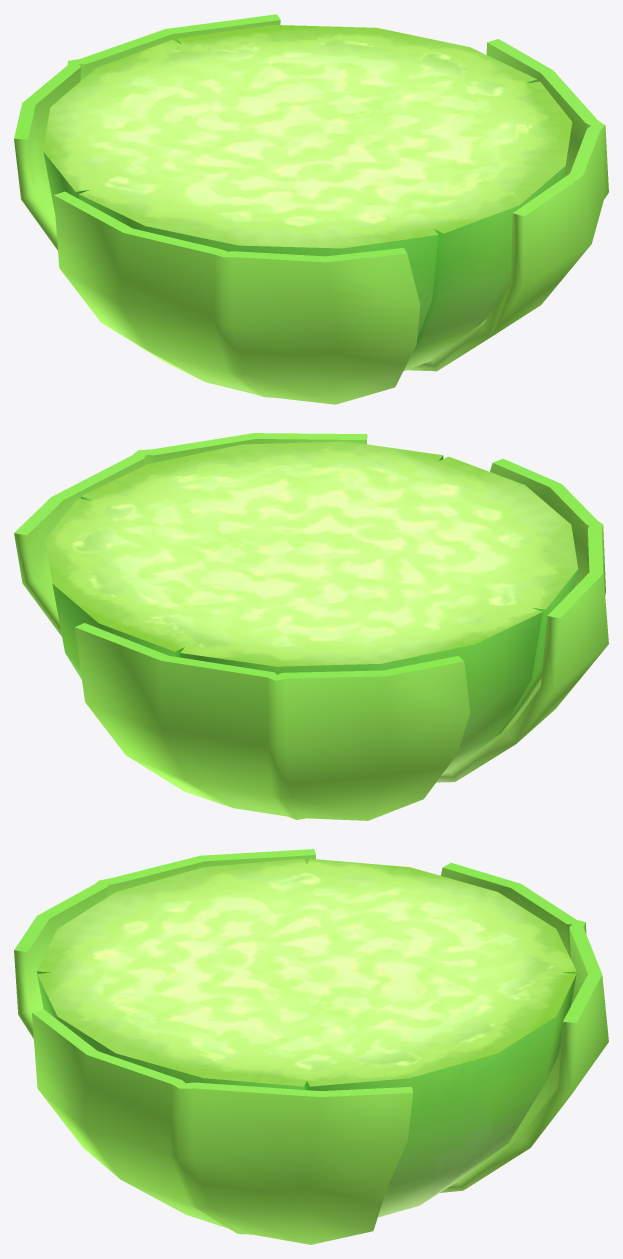
Rendered from lettuce_bottom.glb.
The picture shows the model from 3 angles, top to bottom: view 1: azimuth 30°, elevation 25°; view 2: azimuth 150°, elevation 25°; view 3: azimuth 270°, elevation 25°; orthographic projection.
Visible parts, largest first — view 1: LettuceBottomB, LettuceBottomA; view 2: LettuceBottomB, LettuceBottomA; view 3: LettuceBottomB, LettuceBottomA.
Boxes of the visible parts, left/top/right/bottom form: LettuceBottomB: left=14, top=14, right=605, bottom=262; LettuceBottomA: left=14, top=20, right=608, bottom=404; LettuceBottomB: left=14, top=433, right=603, bottom=680; LettuceBottomA: left=14, top=436, right=608, bottom=820; LettuceBottomB: left=14, top=849, right=602, bottom=1097; LettuceBottomA: left=14, top=855, right=608, bottom=1244.
Bounding box in the file's own units: 1.23 × 0.5318 × 1.24.
Materials: 1 (1 with a texture image).
